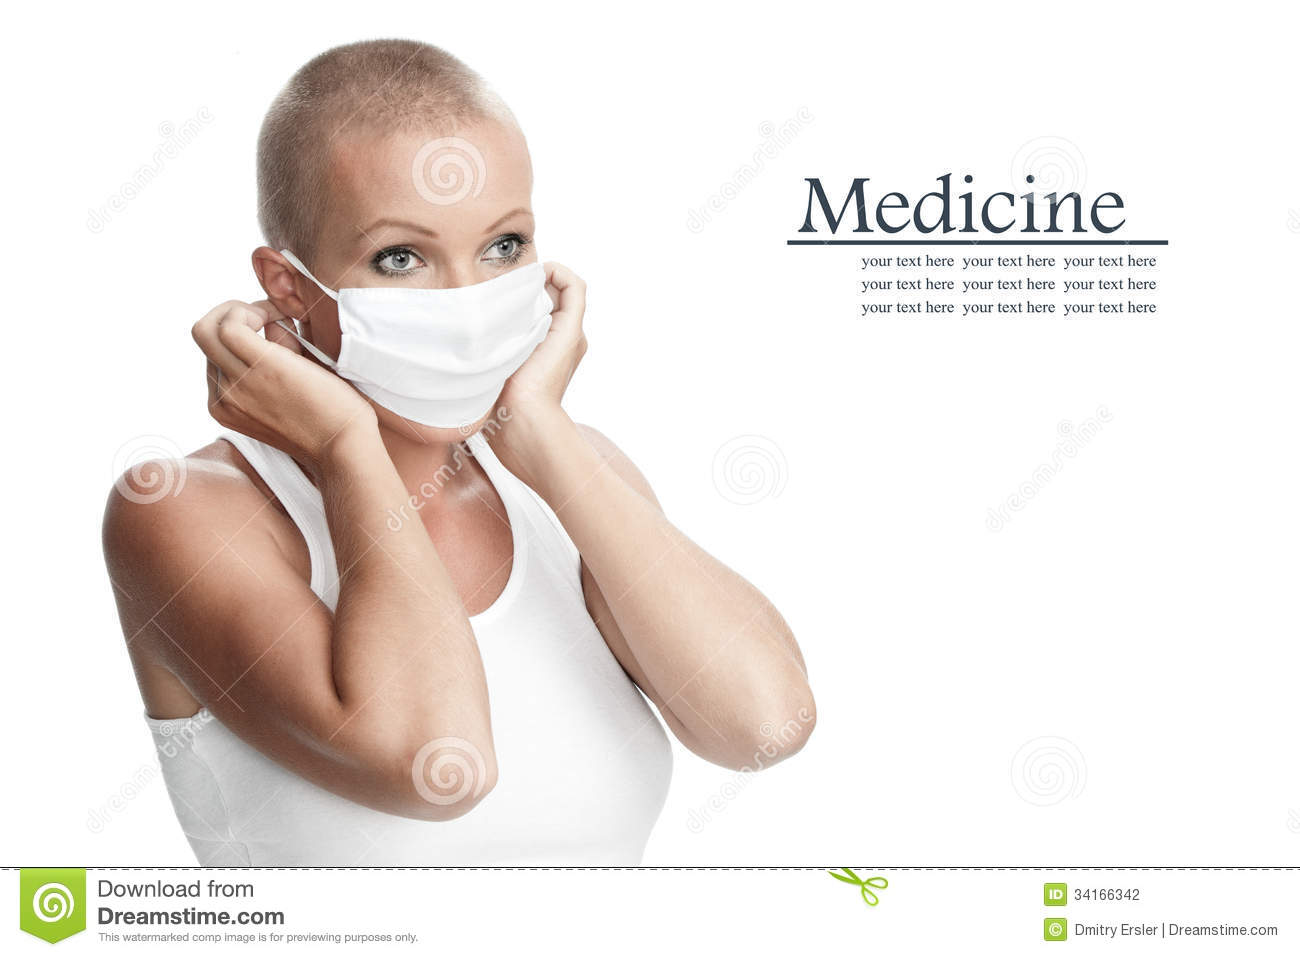mask: (334, 277, 553, 425)
